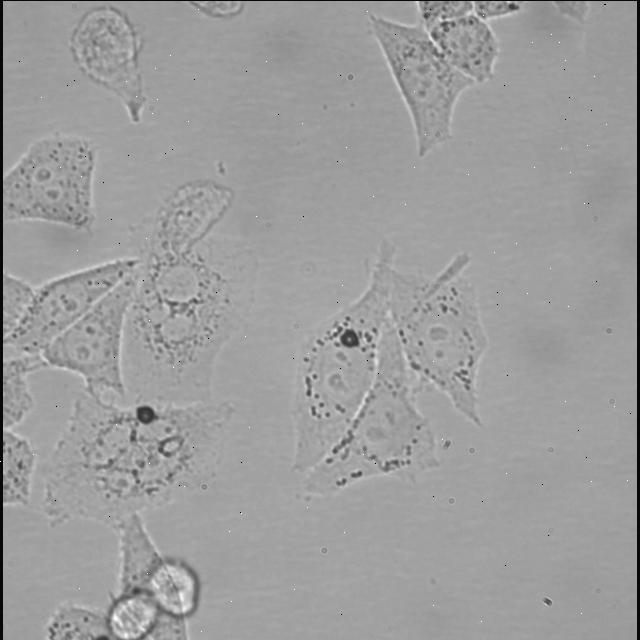microbeads: (134, 404, 158, 426), (340, 329, 360, 347)
